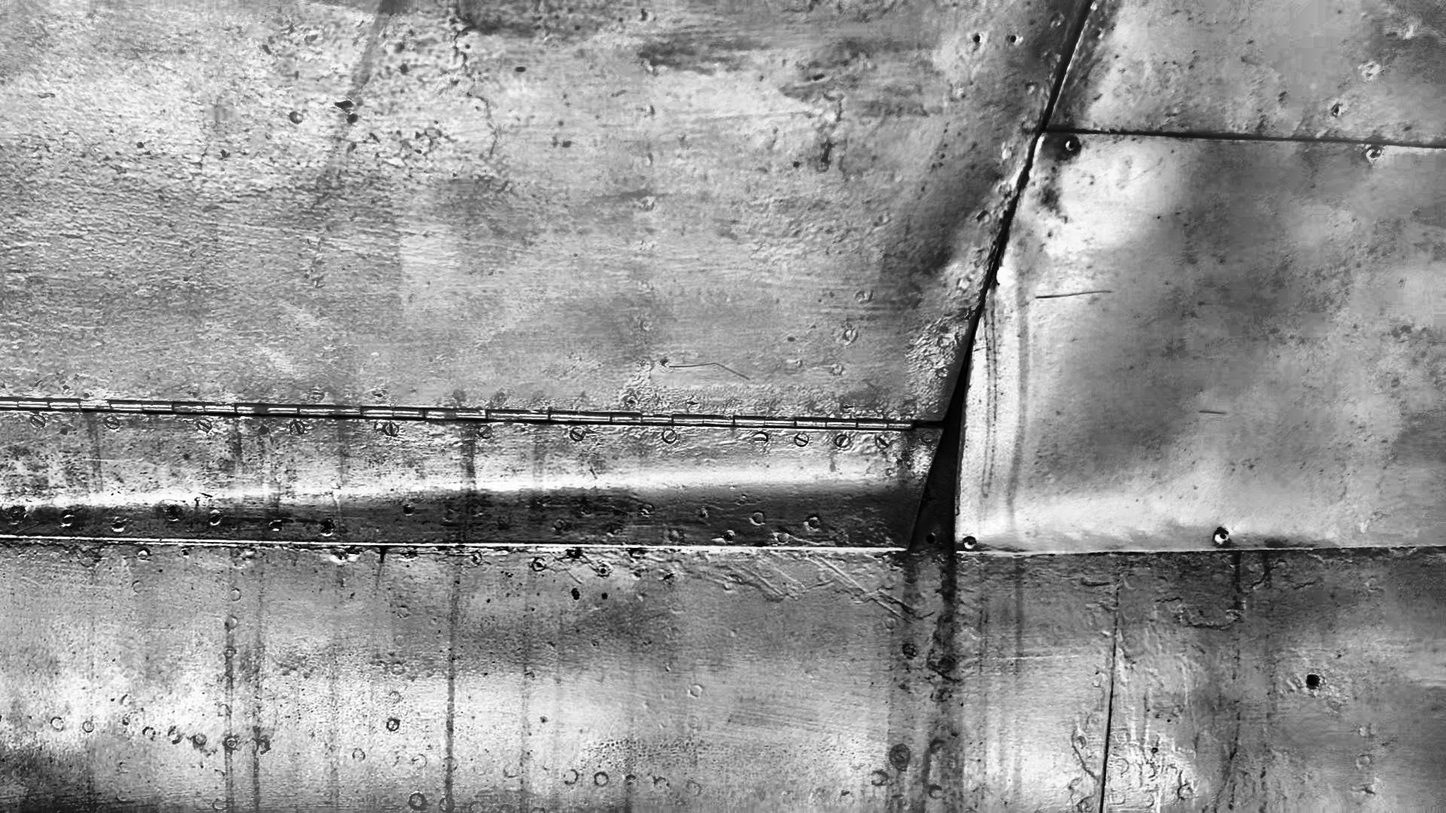dent: (1229, 525, 1337, 551)
missing-head: (1333, 105, 1342, 117)
scratch: (810, 553, 909, 625), (742, 566, 785, 597), (1036, 288, 1115, 301)
